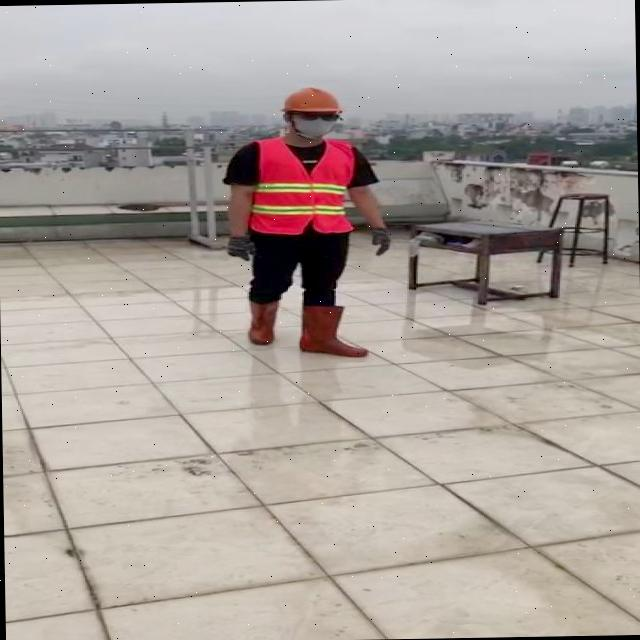boots: (298, 306, 367, 358), (244, 296, 280, 346)
